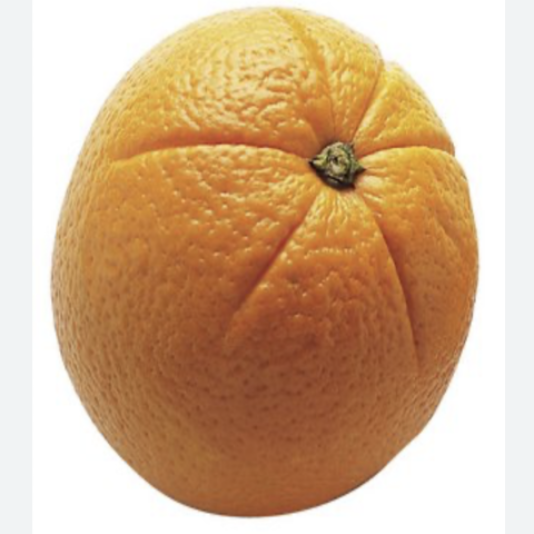orange: (36, 3, 517, 525)
